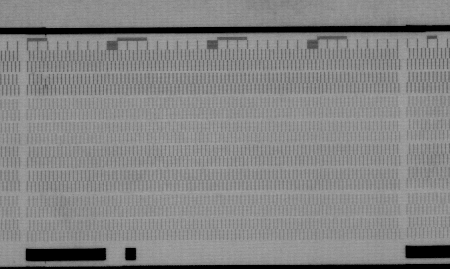Oblique printing: (39, 72, 54, 88)
